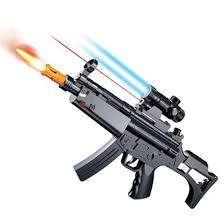gun: (39, 41, 218, 210)
